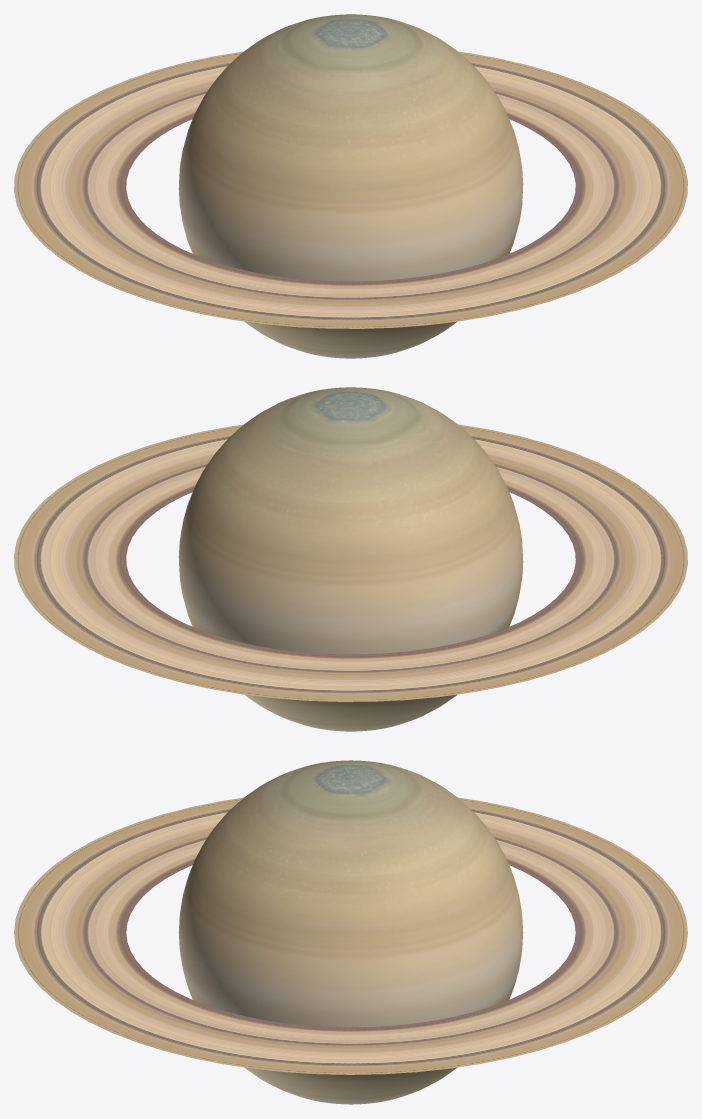
File: asset.glb
3 views of the same model, one above another, from view 1: azimuth 30°, elevation 25°; view 2: azimuth 150°, elevation 25°; view 3: azimuth 270°, elevation 25° (orthographic).
Visible parts, largest first — view 1: ojSaturn, Circle.001; view 2: ojSaturn, Circle.001; view 3: ojSaturn, Circle.001.
Boxes of the visible parts, x1=… form: ojSaturn: x1=178, y1=14, x2=523, y2=358; Circle.001: x1=14, y1=51, x2=687, y2=328; ojSaturn: x1=178, y1=387, x2=523, y2=731; Circle.001: x1=14, y1=424, x2=687, y2=701; ojSaturn: x1=178, y1=760, x2=523, y2=1104; Circle.001: x1=14, y1=797, x2=687, y2=1074.
Size of the model in its own units: 3.91 by 2 by 3.91.
2 materials, 2 textured.
